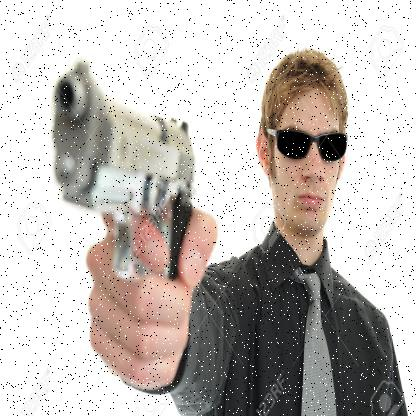pistol: (57, 60, 193, 397)
